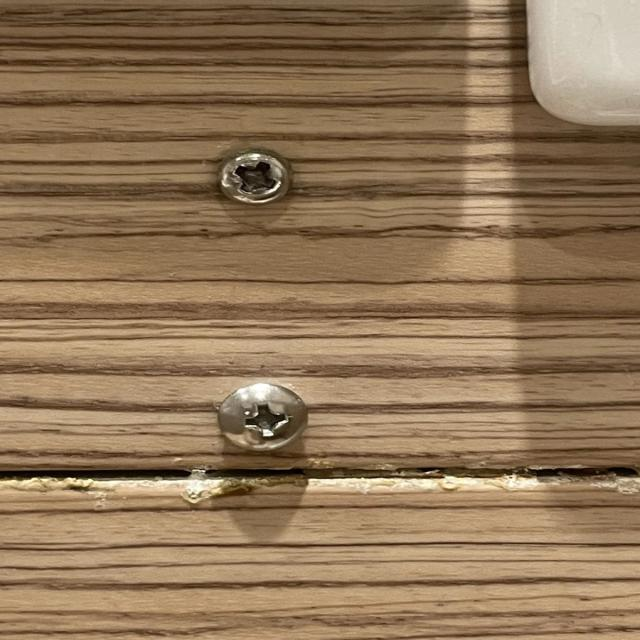hidden camera: (235, 162, 282, 199)
